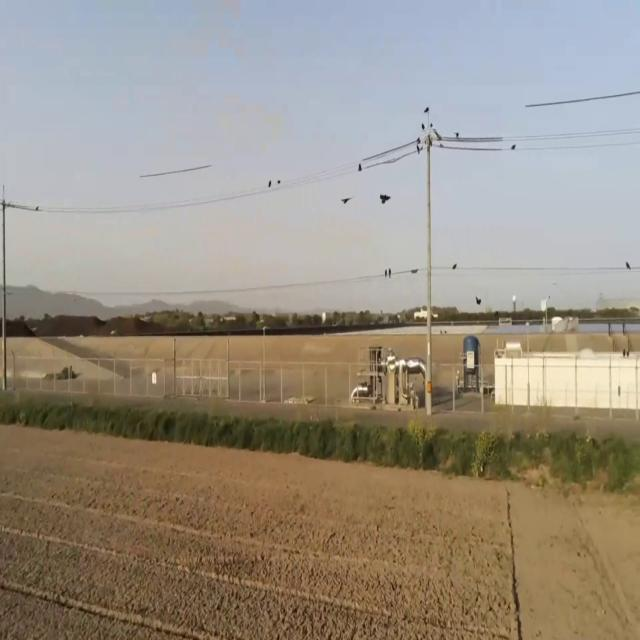bird: (379, 185, 391, 209), (341, 190, 352, 209), (417, 131, 422, 155), (476, 290, 482, 308), (511, 138, 516, 155), (452, 259, 457, 274), (626, 257, 630, 274), (358, 160, 362, 174), (268, 177, 272, 191), (385, 265, 389, 279), (387, 265, 391, 278), (277, 177, 280, 190)
